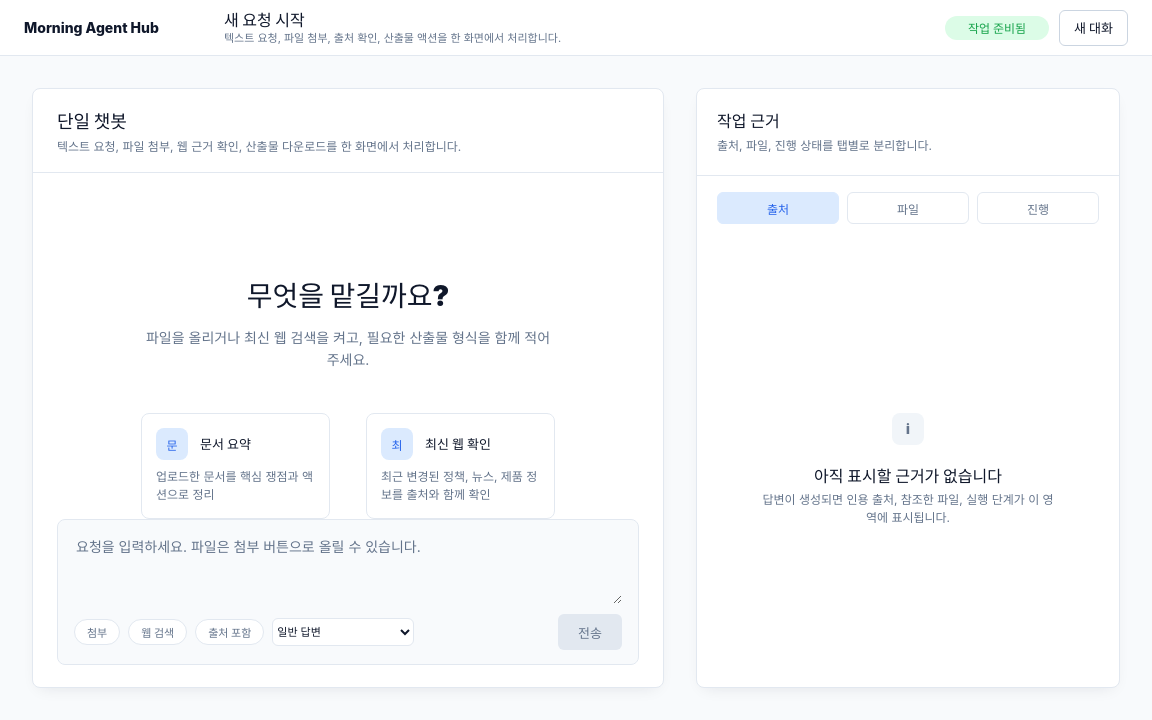
Test: ChatShell › deletes a drive file from the file panel after confirmation
The width and height of the screenshot is (1152, 720).
Click the button "파일" at coordinates (908, 208), box [847,192,969,224]
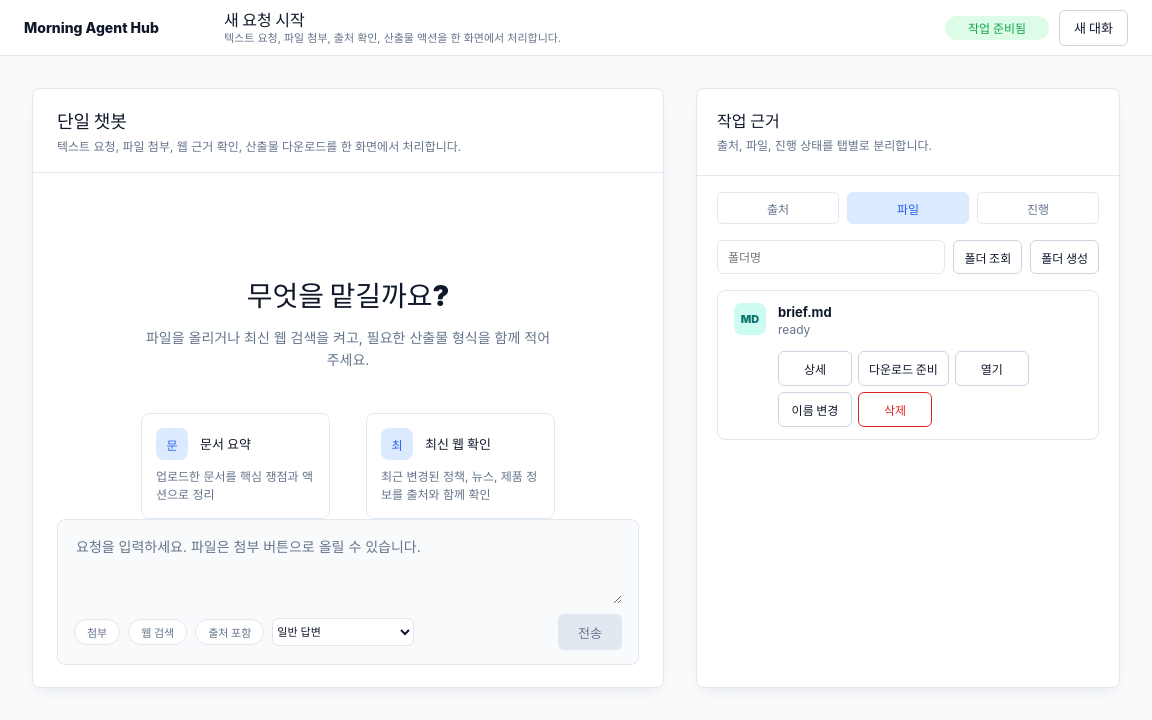
Expected: the text "brief.md" is shown, [778,304,832,320]
Click the button with test id "file-delete-button" at coordinates (895, 410), box [858,392,932,427]
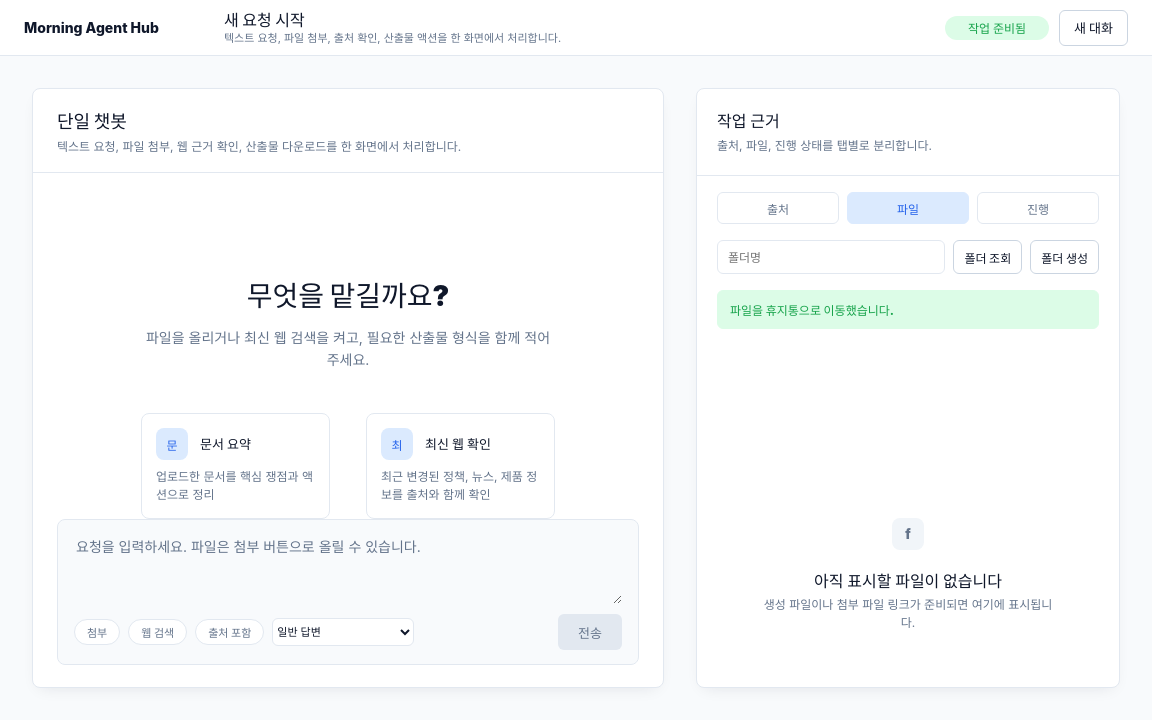
Expected: the text "파일을 휴지통으로 이동했습니다." is shown, [717,290,1099,329]
Expected: the text "brief.md" is gone
